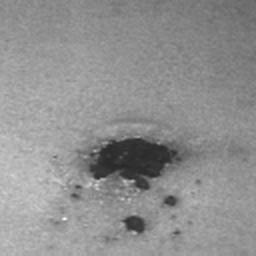Iron sheet ash: (88, 137, 183, 191), (118, 214, 147, 234), (163, 195, 178, 207), (69, 192, 81, 200)
